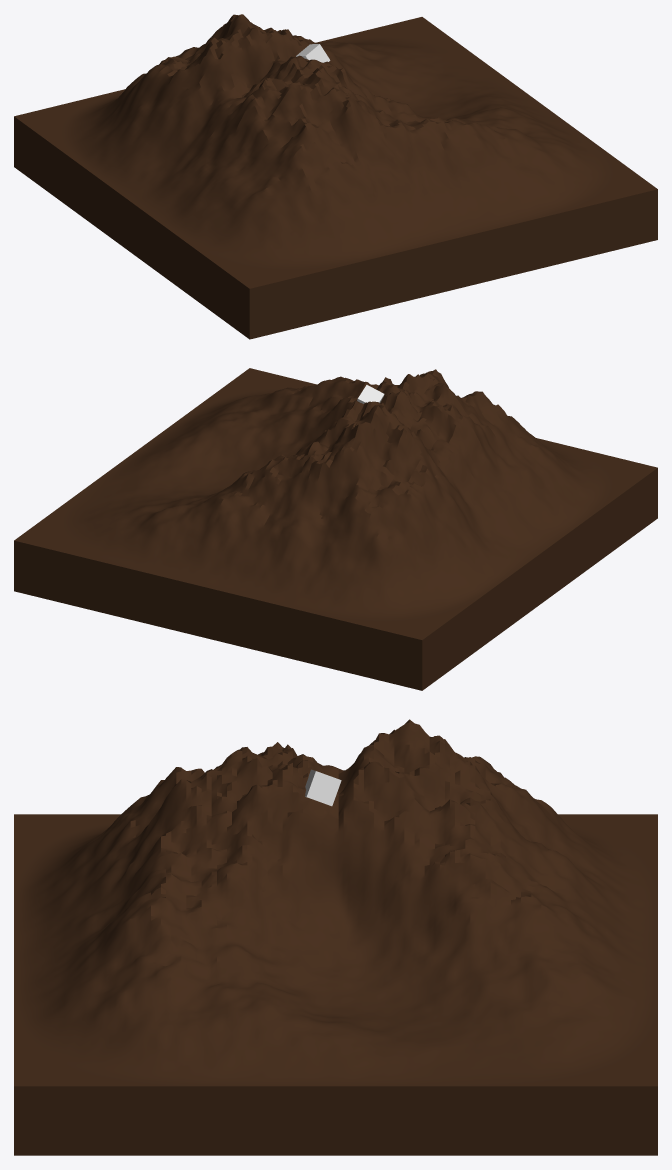
The model's file is ground.glb.
3 renders of one model, top to bottom at view 1: azimuth 30°, elevation 25°; view 2: azimuth 150°, elevation 25°; view 3: azimuth 270°, elevation 25°, orthographic. The views are drawn at different scales.
Visible parts, largest first — view 1: Landscape_1; view 2: Landscape_1; view 3: Landscape_1, Cube.
Part boxes in pixels (left/top/right/bottom): Landscape_1: left=14, top=14, right=657, bottom=339; Landscape_1: left=14, top=368, right=657, bottom=690; Landscape_1: left=14, top=719, right=657, bottom=1155; Cube: left=305, top=769, right=341, bottom=806.
Size of the model in its own units: 2 by 0.8712 by 2.
